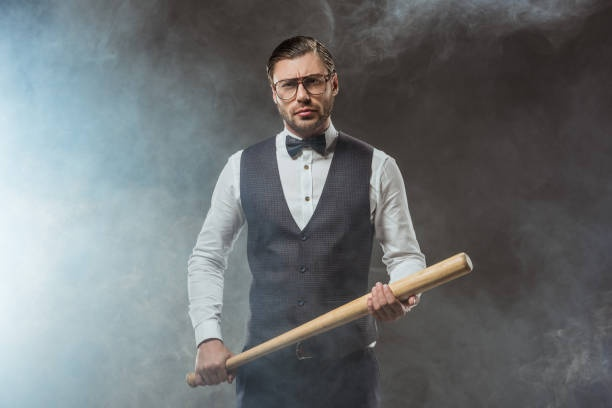bita: (186, 251, 471, 389)
